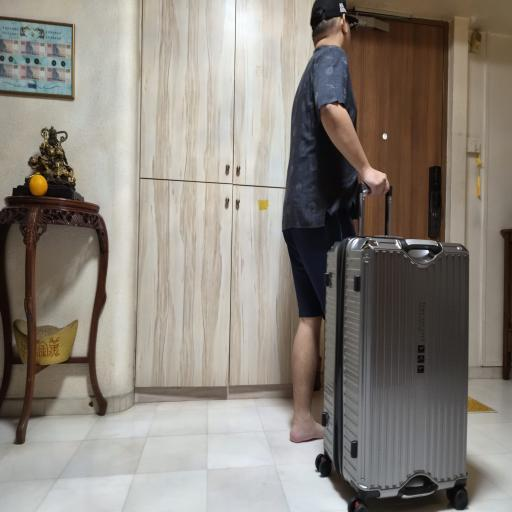person_right: (244, 6, 472, 506)
